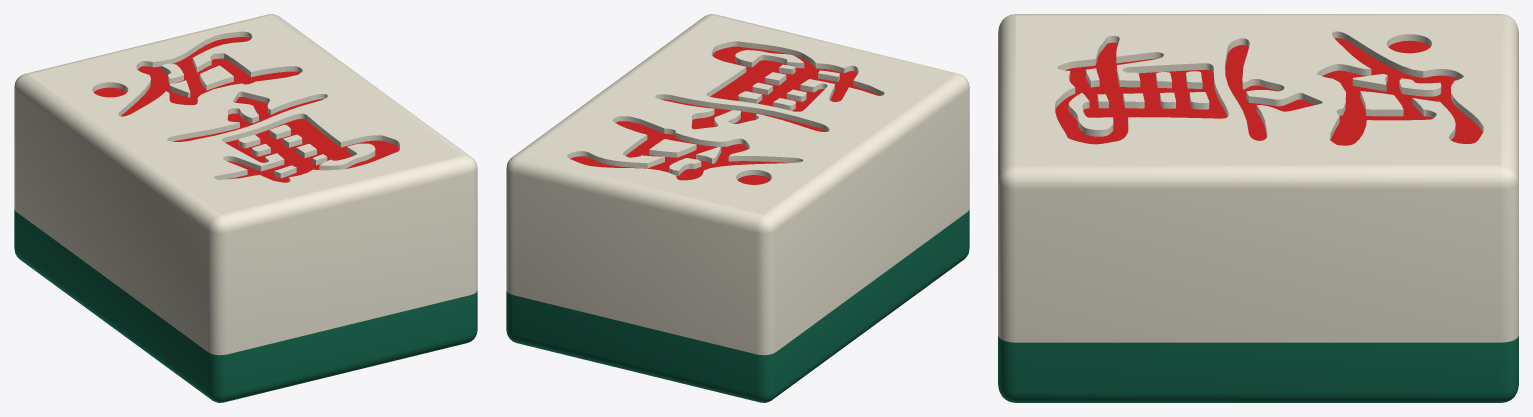
File: Man5-Dora.glb
3 views of the same model, side by side, from view 1: azimuth 30°, elevation 25°; view 2: azimuth 150°, elevation 25°; view 3: azimuth 270°, elevation 25° (orthographic). The views are drawn at different scales.
Visible parts, largest first — view 1: Man5-Dora_body, Man5-Dora_inset; view 2: Man5-Dora_body, Man5-Dora_inset; view 3: Man5-Dora_body, Man5-Dora_inset.
Part boxes in pixels (x1,y1,x2,y2): Man5-Dora_body: [14, 14, 477, 402]; Man5-Dora_inset: [94, 37, 399, 182]; Man5-Dora_body: [506, 14, 969, 402]; Man5-Dora_inset: [570, 46, 879, 184]; Man5-Dora_body: [998, 14, 1518, 402]; Man5-Dora_inset: [1055, 38, 1482, 145].
Size of the model in its own units: 0.024 by 0.016 by 0.032.
